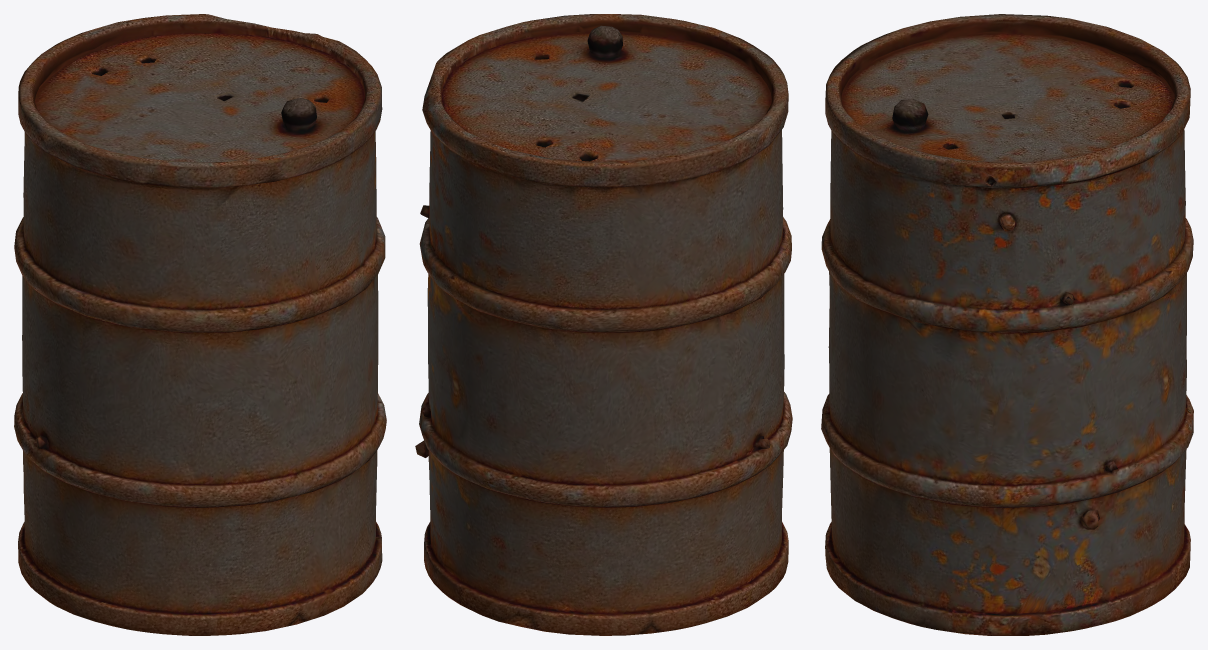
The model's file is barrel.glb.
3 views of the same model, side by side, from view 1: azimuth 30°, elevation 25°; view 2: azimuth 150°, elevation 25°; view 3: azimuth 270°, elevation 25° (orthographic).
Parts seen in each view (by area): view 1: tripo_node_ca702816-b2a2-4ea7-a236-2c96d9b99567; view 2: tripo_node_ca702816-b2a2-4ea7-a236-2c96d9b99567; view 3: tripo_node_ca702816-b2a2-4ea7-a236-2c96d9b99567.
Part boxes in pixels (left/top/right/bottom): tripo_node_ca702816-b2a2-4ea7-a236-2c96d9b99567: left=14, top=14, right=386, bottom=635; tripo_node_ca702816-b2a2-4ea7-a236-2c96d9b99567: left=415, top=14, right=792, bottom=635; tripo_node_ca702816-b2a2-4ea7-a236-2c96d9b99567: left=821, top=14, right=1193, bottom=635.
Size of the model in its own units: 0.5284 by 0.75 by 0.5225.
Materials: 1 (1 with a texture image).
